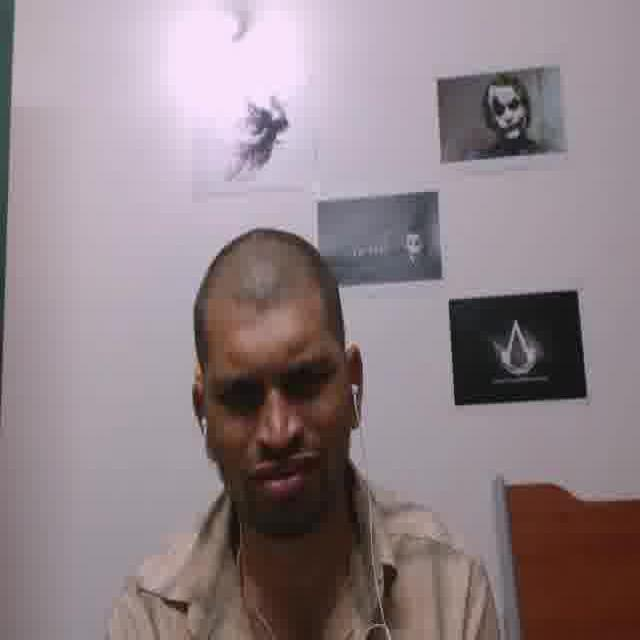Frustration: (202, 292, 342, 529)
